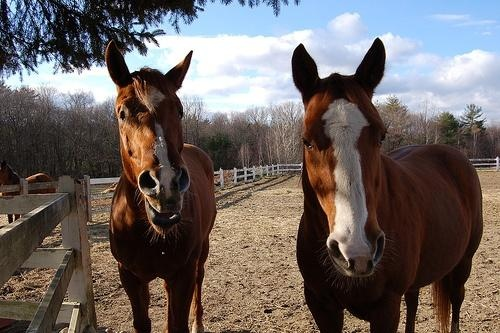horse: (292, 38, 484, 333), (106, 40, 219, 333)
